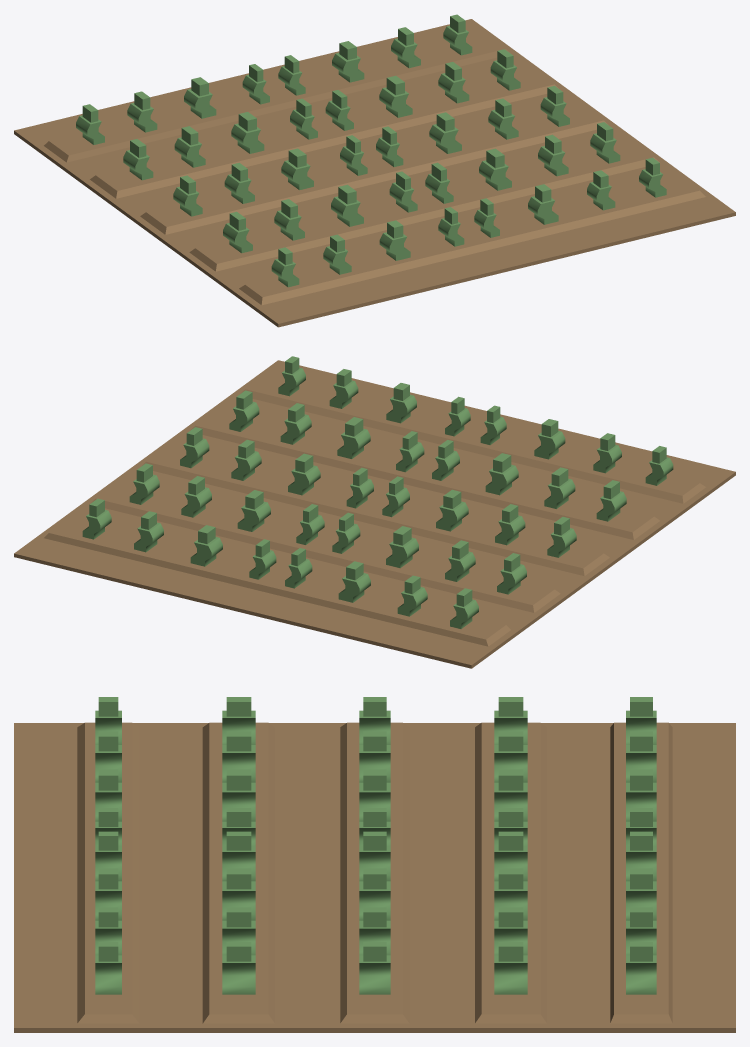
Rendered from allotment_farm.glb.
3 views of the same model, one above another, from view 1: azimuth 30°, elevation 25°; view 2: azimuth 150°, elevation 25°; view 3: azimuth 270°, elevation 25° (orthographic). The views are drawn at different scales.
Parts seen in each view (by area): view 1: pCube4; view 2: pCube4; view 3: pCube4.
Boxes of the visible parts, x1,y1,x2,y2 form: pCube4: (14, 14, 735, 327); pCube4: (14, 356, 735, 668); pCube4: (14, 697, 735, 1032).
Bounding box in the file's own units: 5275 × 453 × 5275.
